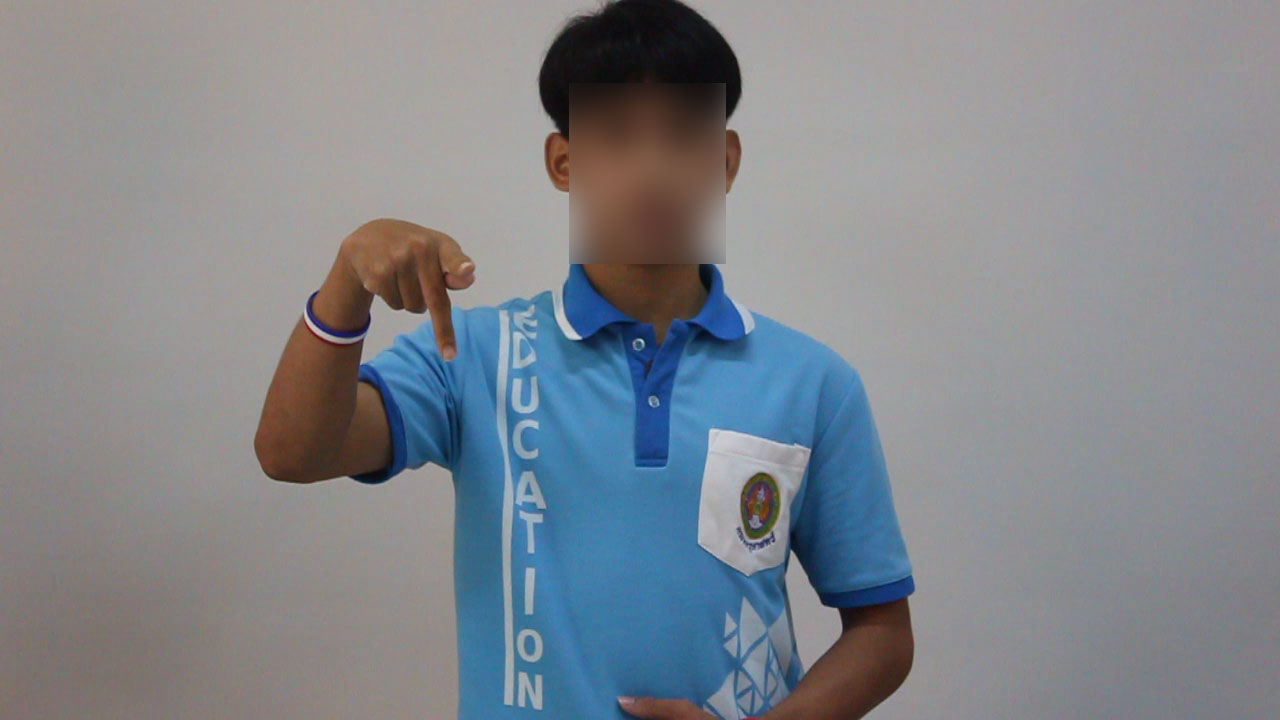por: (325, 188, 487, 368)
